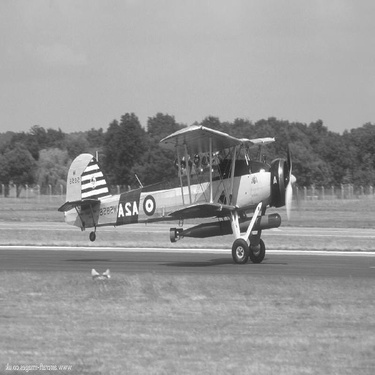airplane: (44, 114, 308, 277)
